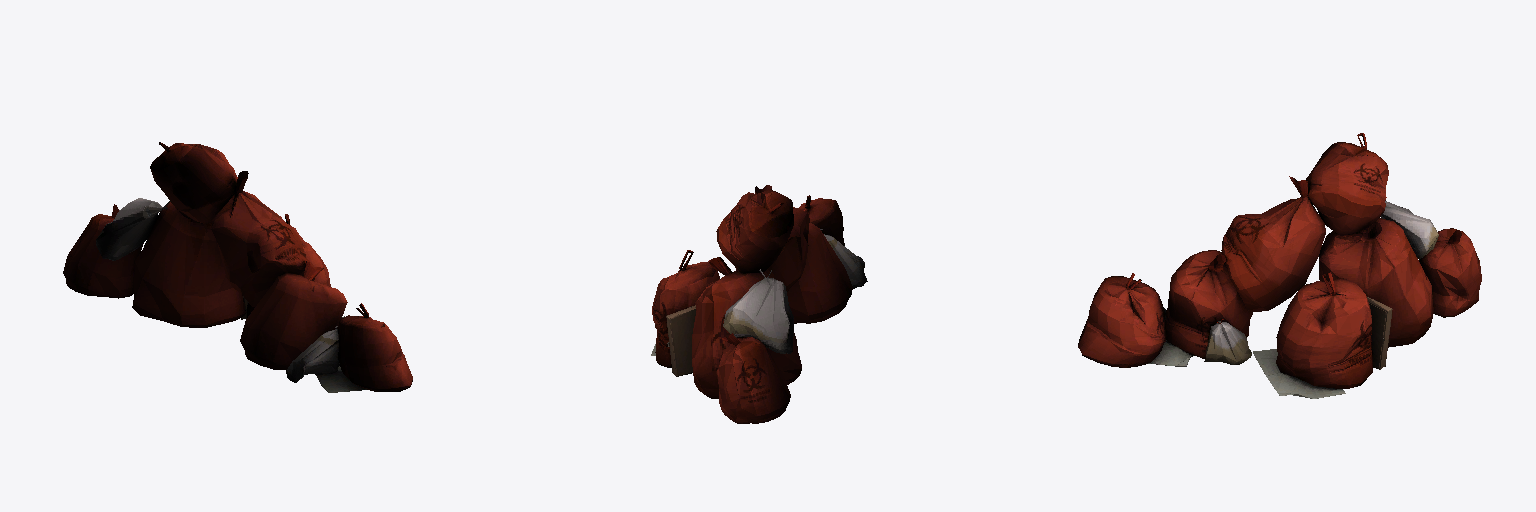
The picture shows the model from 3 angles: view 1: azimuth 30°, elevation 25°; view 2: azimuth 150°, elevation 25°; view 3: azimuth 270°, elevation 25°; orthographic projection.
Parts seen in each view (by area): view 1: VBSP_Object.model_instance_5.Body.TrashCluster01a_reference.smd.; view 2: VBSP_Object.model_instance_5.Body.TrashCluster01a_reference.smd.; view 3: VBSP_Object.model_instance_5.Body.TrashCluster01a_reference.smd..
Part boxes in pixels (x1,y1,x2,y2): VBSP_Object.model_instance_5.Body.TrashCluster01a_reference.smd.: (63, 142, 412, 392); VBSP_Object.model_instance_5.Body.TrashCluster01a_reference.smd.: (651, 185, 867, 423); VBSP_Object.model_instance_5.Body.TrashCluster01a_reference.smd.: (1078, 133, 1481, 398).
Bounding box in the file's own units: 63.61 × 58.09 × 110.
Materials: 1 (1 with a texture image).